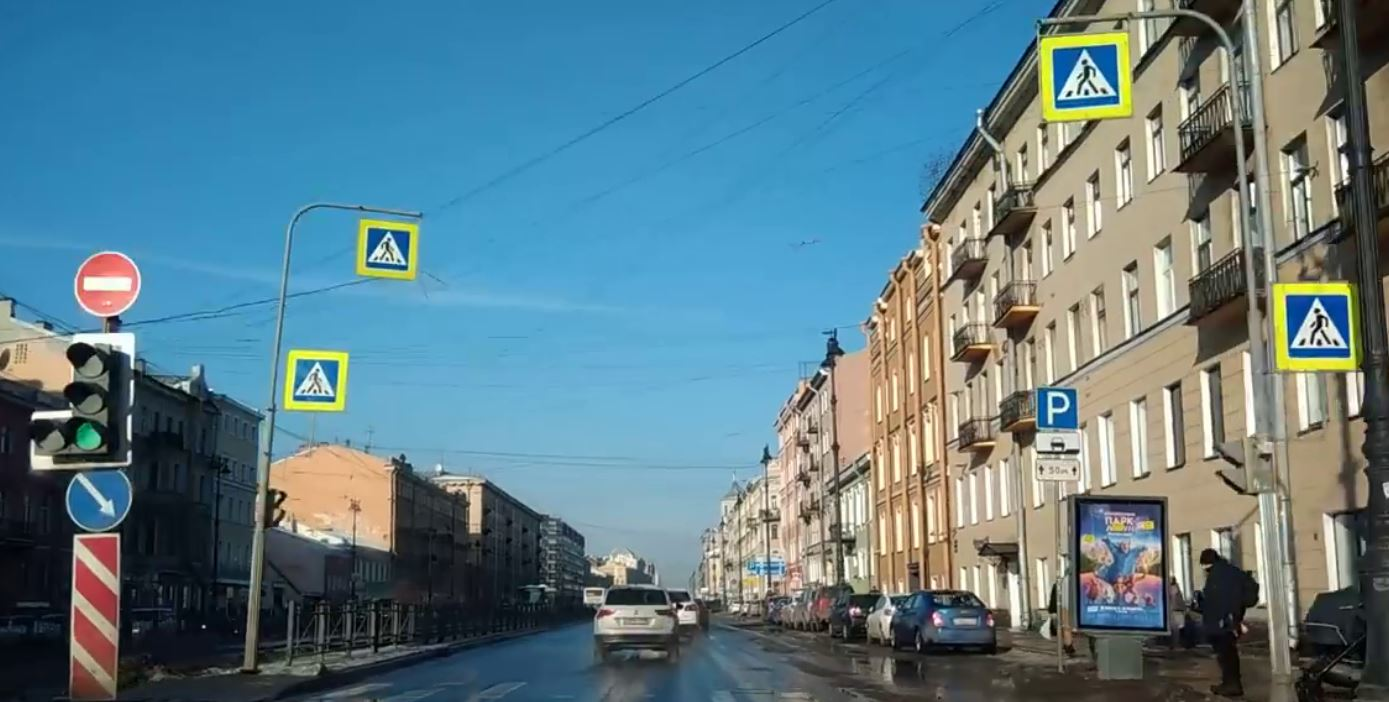Yaya Gecidi: (1289, 291, 1350, 357), (1052, 49, 1119, 107), (368, 230, 416, 273), (297, 362, 339, 406)
